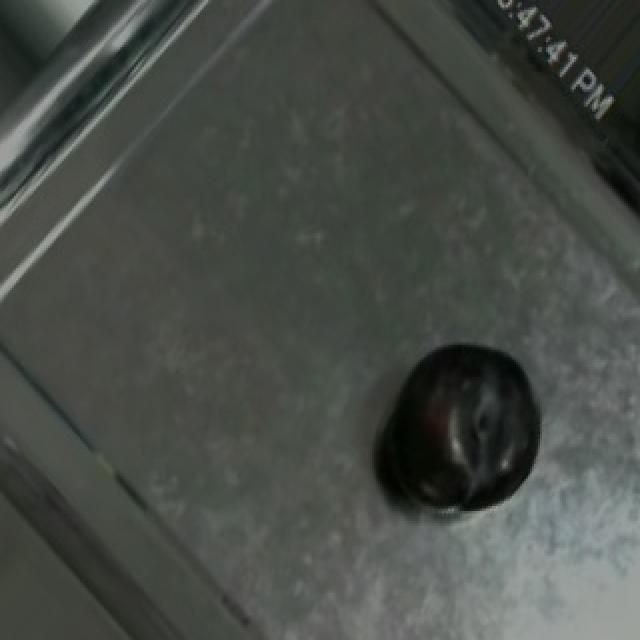Fruit: (372, 317, 568, 541), (588, 65, 640, 228)
